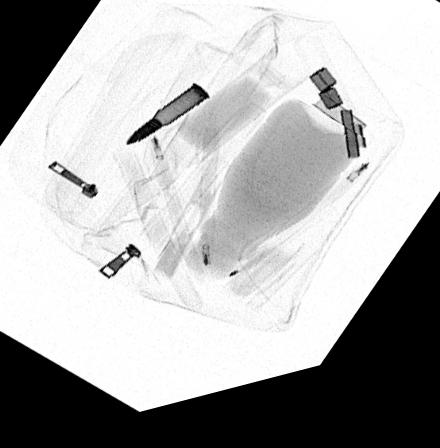Bullet: (123, 92, 210, 152)
